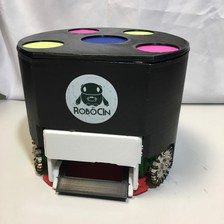robot: (13, 22, 195, 207)
